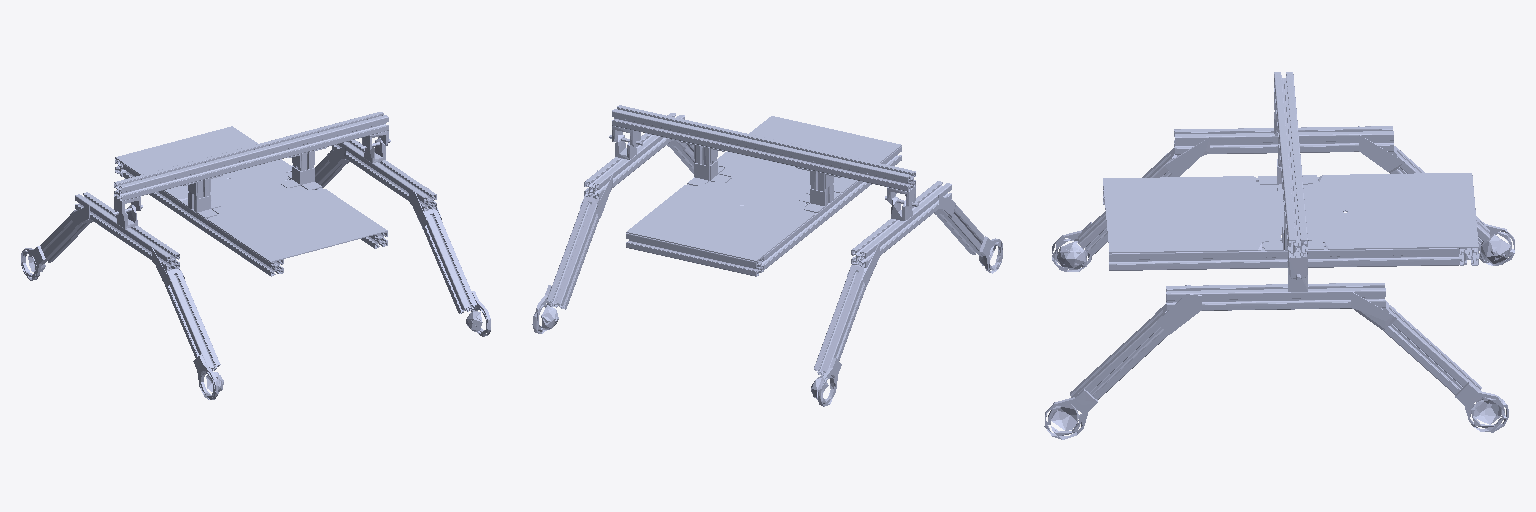
URDF robot description (mobile_base_description):
<?xml version="1.0"?>
<robot
  name="mobile_base_description">
  <link
    name="base_link">
    <inertial>
      <origin
        xyz="0.0044130475778954 -0.0310568977431112 0.118279871618265"
        rpy="0 0 0" />
      <mass
        value="5.00699131277012" />
      <inertia
        ixx="0.268939126634922"
        ixy="0.000157102820952367"
        ixz="-0.0117934298282522"
        iyy="0.61282212173551"
        iyz="0.0042109592921943"
        izz="0.435034401814071" />
    </inertial>
    <visual>
      <origin
        xyz="0 0 0"
        rpy="0 0 0" />
      <geometry>
        <mesh
          filename="package://mobile_base_description/meshes/base_link.STL" />
      </geometry>
      <material
        name="">
        <color
          rgba="0.792156862745098 0.819607843137255 0.933333333333333 1" />
      </material>
    </visual>
    <collision>
      <origin
        xyz="0 0 0"
        rpy="0 0 0" />
      <geometry>
        <mesh
          filename="package://mobile_base_description/meshes/base_link.STL" />
      </geometry>
    </collision>
  </link>
  <link
    name="right_front_wheel_link">
    <inertial>
      <origin
        xyz="-0.11217 8.8447E-05 5.7636E-05"
        rpy="0 0 0" />
      <mass
        value="1.5004" />
      <inertia
        ixx="9.5426E-06"
        ixy="3.0122E-07"
        ixz="1.5725E-07"
        iyy="0.00077209"
        iyz="3.7664E-07"
        izz="0.0007733" />
    </inertial>
    <visual>
      <origin
        xyz="0 0 0"
        rpy="0 0 0" />
      <geometry>
        <mesh
          filename="package://mobile_base_description/meshes/wheel_link.STL" />
      </geometry>
      <material
        name="">
        <color
          rgba="0.79216 0.81961 0.93333 1" />
      </material>
    </visual>
    <collision>
      <origin
        xyz="0 0 0"
        rpy="0 0 0" />
      <geometry>
        <mesh
          filename="package://mobile_base_description/meshes/wheel_link.STL" />
      </geometry>
    </collision>
  </link>
  <joint
    name="right_front_wheel_joint"
    type="continuous">
    <origin
      xyz="-0.39172 -0.62476 -0.30409"
      rpy="1.5708 2.2837E-18 0.037305" />
    <parent
      link="base_link" />
    <child
      link="right_front_wheel_link" />
    <axis
      xyz="1 0 0" />
  </joint>
  <link
    name="left_front_wheel_link">
    <inertial>
      <origin
        xyz="-0.11217 8.8185E-05 5.7784E-05"
        rpy="0 0 0" />
      <mass
        value="1.5004" />
      <inertia
        ixx="9.5533E-06"
        ixy="3.0632E-07"
        ixz="1.5757E-07"
        iyy="0.00077207"
        iyz="3.7952E-07"
        izz="0.00077329" />
    </inertial>
    <visual>
      <origin
        xyz="0 0 0"
        rpy="0 0 0" />
      <geometry>
        <mesh
          filename="package://mobile_base_description/meshes/wheel_link.STL" />
      </geometry>
      <material
        name="">
        <color
          rgba="0.79216 0.81961 0.93333 1" />
      </material>
    </visual>
    <collision>
      <origin
        xyz="0 0 0"
        rpy="0 0 0" />
      <geometry>
        <mesh
          filename="package://mobile_base_description/meshes/wheel_link.STL" />
      </geometry>
    </collision>
  </link>
  <joint
    name="left_front_wheel_joint"
    type="continuous">
    <origin
      xyz="0.43707 -0.64386 -0.30409"
      rpy="-1.5708 -2.2837E-18 -3.1043" />
    <parent
      link="base_link" />
    <child
      link="left_front_wheel_link" />
    <axis
      xyz="1 0 0" />
  </joint>
  <link
    name="right_back_wheel_link">
    <inertial>
      <origin
        xyz="-0.11217 8.8435E-05 5.7607E-05"
        rpy="0 0 0" />
      <mass
        value="1.5004" />
      <inertia
        ixx="9.5638E-06"
        ixy="3.0089E-07"
        ixz="1.5622E-07"
        iyy="0.00077205"
        iyz="3.8333E-07"
        izz="0.00077327" />
    </inertial>
    <visual>
      <origin
        xyz="0 0 0"
        rpy="0 0 0" />
      <geometry>
        <mesh
          filename="package://mobile_base_description/meshes/wheel_link.STL" />
      </geometry>
      <material
        name="">
        <color
          rgba="0.79216 0.81961 0.93333 1" />
      </material>
    </visual>
    <collision>
      <origin
        xyz="0 0 0"
        rpy="0 0 0" />
      <geometry>
        <mesh
          filename="package://mobile_base_description/meshes/wheel_link.STL" />
      </geometry>
    </collision>
  </link>
  <joint
    name="right_back_wheel_joint"
    type="continuous">
    <origin
      xyz="-0.42784 0.34311 -0.30409"
      rpy="1.5708 2.2837E-18 0.037305" />
    <parent
      link="base_link" />
    <child
      link="right_back_wheel_link" />
    <axis
      xyz="1 0 0" />
  </joint>
  <link
    name="left_back_wheel_link">
    <inertial>
      <origin
        xyz="-0.11217 8.8435E-05 5.7607E-05"
        rpy="0 0 0" />
      <mass
        value="1.5004" />
      <inertia
        ixx="9.5638E-06"
        ixy="3.0089E-07"
        ixz="1.5622E-07"
        iyy="0.00077205"
        iyz="3.8333E-07"
        izz="0.00077327" />
    </inertial>
    <visual>
      <origin
        xyz="0 0 0"
        rpy="0 0 0" />
      <geometry>
        <mesh
          filename="package://mobile_base_description/meshes/wheel_link.STL" />
      </geometry>
      <material
        name="">
        <color
          rgba="0.79216 0.81961 0.93333 1" />
      </material>
    </visual>
    <collision>
      <origin
        xyz="0 0 0"
        rpy="0 0 0" />
      <geometry>
        <mesh
          filename="package://mobile_base_description/meshes/wheel_link.STL" />
      </geometry>
    </collision>
  </link>
  <joint
    name="left_back_wheel_joint"
    type="continuous">
    <origin
      xyz="0.40294 0.32408 -0.30409"
      rpy="1.5708 5.545E-15 -3.1043" />
    <parent
      link="base_link" />
    <child
      link="left_back_wheel_link" />
    <axis
      xyz="1 0 0" />
  </joint>
</robot>

--- What the picture shows (computed from the rendered views, not written in the file) ---
The picture shows the robot from 3 angles, left to right: view 1: azimuth 30°, elevation 25°; view 2: azimuth 150°, elevation 25°; view 3: azimuth 270°, elevation 25°; orthographic projection.
Model mobile_base_description with 5 links and 4 joints (4 continuous), rooted at base_link, posed all joints at 0.
Visible links, largest first — view 1: base_link; view 2: base_link; view 3: base_link.
Boxes of the visible links, <box> form: base_link: <box>21,112,490,399</box>; base_link: <box>532,105,1002,406</box>; base_link: <box>1044,72,1514,439</box>.
Size in the robot's own frame: 0.9508 by 1.08 by 0.4945 metres.
Meshes: 2 distinct files referenced, 1 mesh visuals loaded (1 binary STL); not drawn: 4 (reference not matched to a file when rendering).